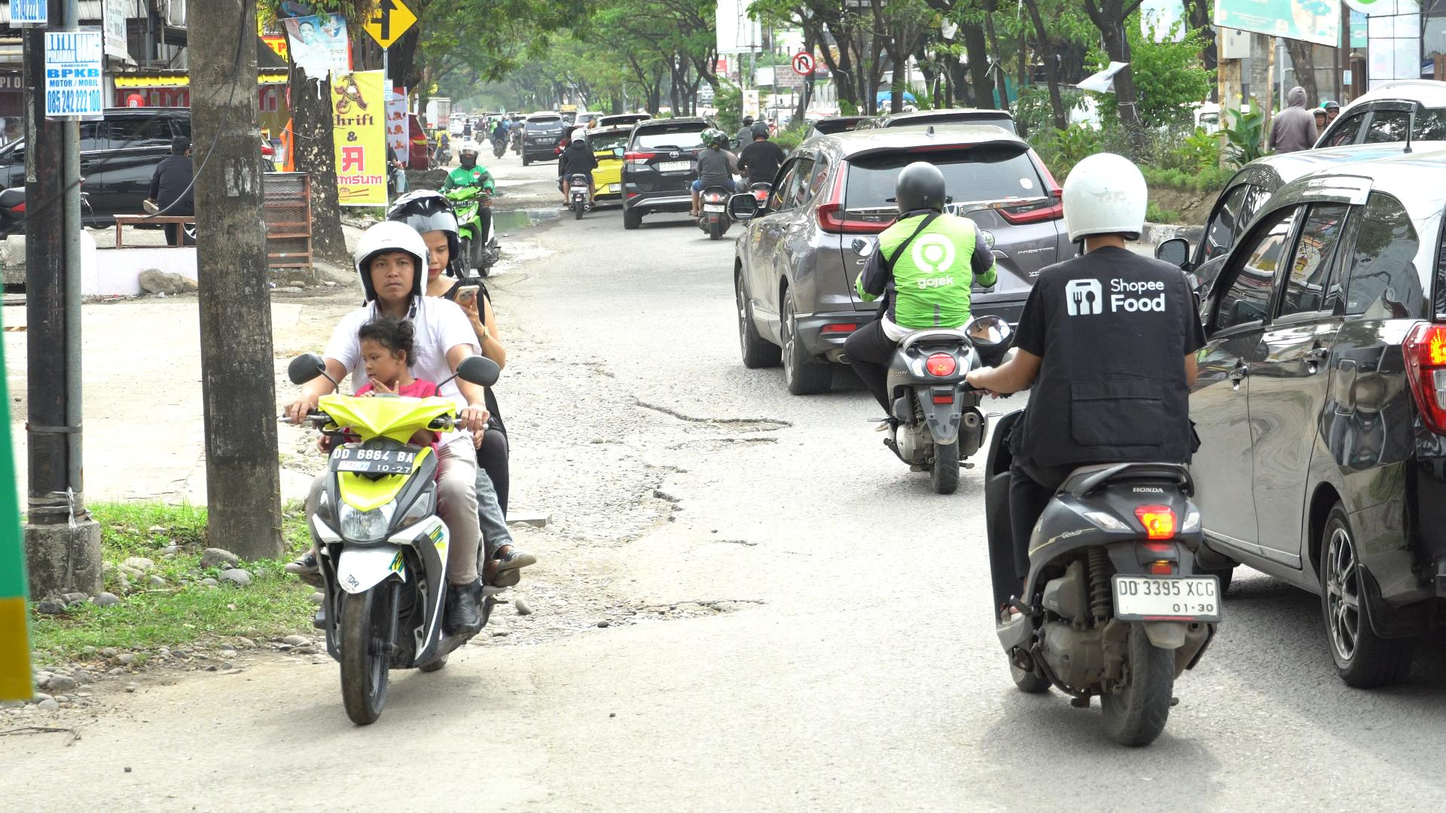number-plate: (329, 447, 413, 474)
